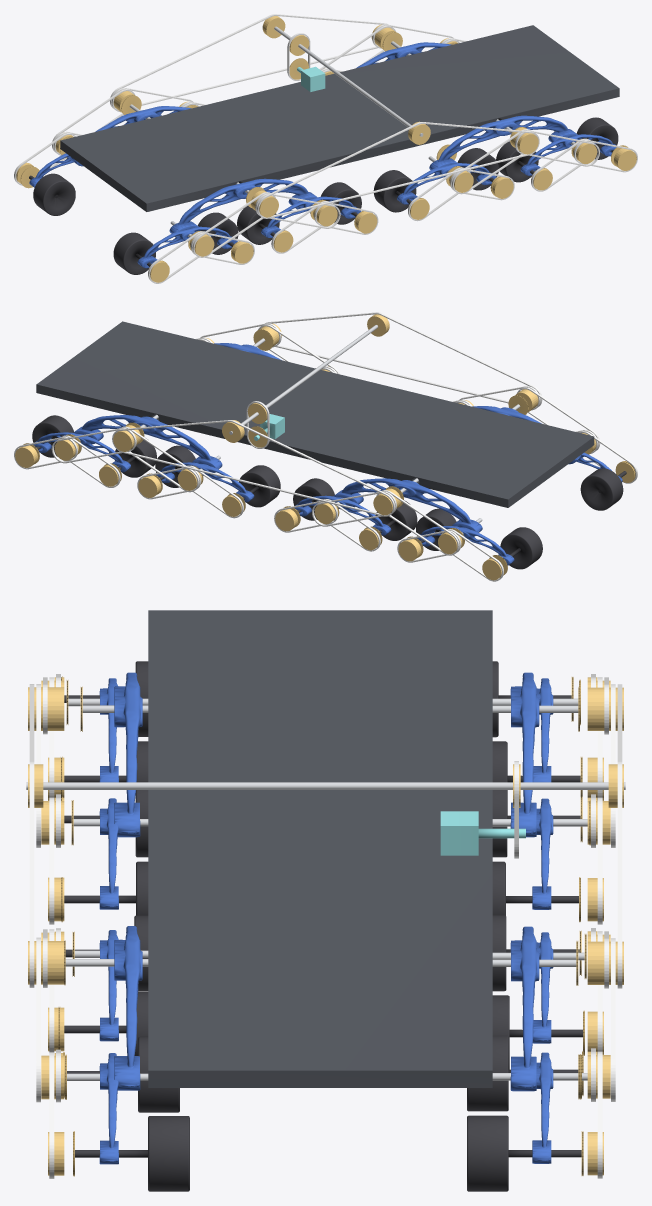
File: rover_assembly.glb
3 views of the same model, one above another, from view 1: azimuth 30°, elevation 25°; view 2: azimuth 150°, elevation 25°; view 3: azimuth 270°, elevation 25° (orthographic). The views are drawn at different scales.
Visible parts, largest first — view 1: chassis_01, bogie_p_n1, bogie_p_n0, belt_l_n, belt_l_p, wheel_02, wheel_01, wheel_09, bogie_s_n0, bogie_s_n3, wheel_05, bogie_s_n2 (+23 smaller); view 2: chassis_01, bogie_p_p0, bogie_p_p1, belt_l_p, belt_l_n, wheel_01, wheel_02, wheel_10, wheel_06, bogie_s_p3, wheel_14, bogie_s_p0 (+19 smaller); view 3: chassis_01, shaft_centre, wheel_16, wheel_15, bogie_p_p1, bogie_p_n1, bogie_p_n0, bogie_p_p0, box_01, wheel_14, belt_l_p, belt_l_n (+24 smaller).
Boxes of the visible parts, x1,y1,x2,y2 form: chassis_01: (60, 25, 619, 211); bogie_p_n1: (429, 115, 577, 169); bogie_p_n0: (169, 178, 317, 233); belt_l_n: (257, 122, 539, 218); belt_l_p: (110, 14, 392, 109); wheel_02: (29, 173, 75, 215); wheel_01: (113, 232, 155, 274); wheel_09: (373, 170, 416, 212); bogie_s_n0: (137, 226, 237, 268); bogie_s_n3: (520, 134, 616, 175); wheel_05: (237, 206, 279, 244); bogie_s_n2: (397, 163, 496, 204); chassis_01: (36, 321, 594, 507); bogie_p_p0: (334, 478, 482, 532); bogie_p_p1: (73, 415, 222, 469); belt_l_p: (112, 420, 395, 516); belt_l_n: (261, 312, 542, 407); wheel_01: (580, 468, 626, 510); wheel_02: (500, 527, 542, 569); wheel_10: (239, 465, 280, 507); wheel_06: (375, 500, 417, 540); bogie_s_p3: (33, 432, 130, 472); wheel_14: (115, 438, 156, 477); bogie_s_p0: (417, 526, 514, 565); chassis_01: (148, 610, 492, 1087); shaft_centre: (26, 782, 625, 789); wheel_16: (467, 1115, 581, 1191); wheel_15: (75, 1116, 189, 1191); bogie_p_p1: (510, 926, 539, 1091); bogie_p_n1: (114, 926, 142, 1090); bogie_p_n0: (114, 672, 142, 837); bogie_p_p0: (510, 672, 539, 837); box_01: (440, 811, 525, 855); wheel_14: (467, 1035, 578, 1111); belt_l_p: (617, 684, 622, 988); belt_l_n: (29, 684, 34, 987).
Bounding box in the file's own units: 1.21 × 0.2565 × 0.632.
